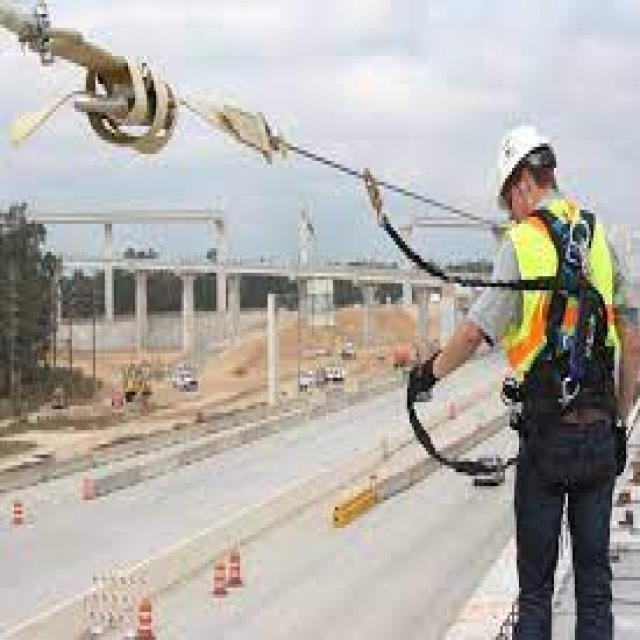Arnes_seguridad: (523, 205, 611, 361)
